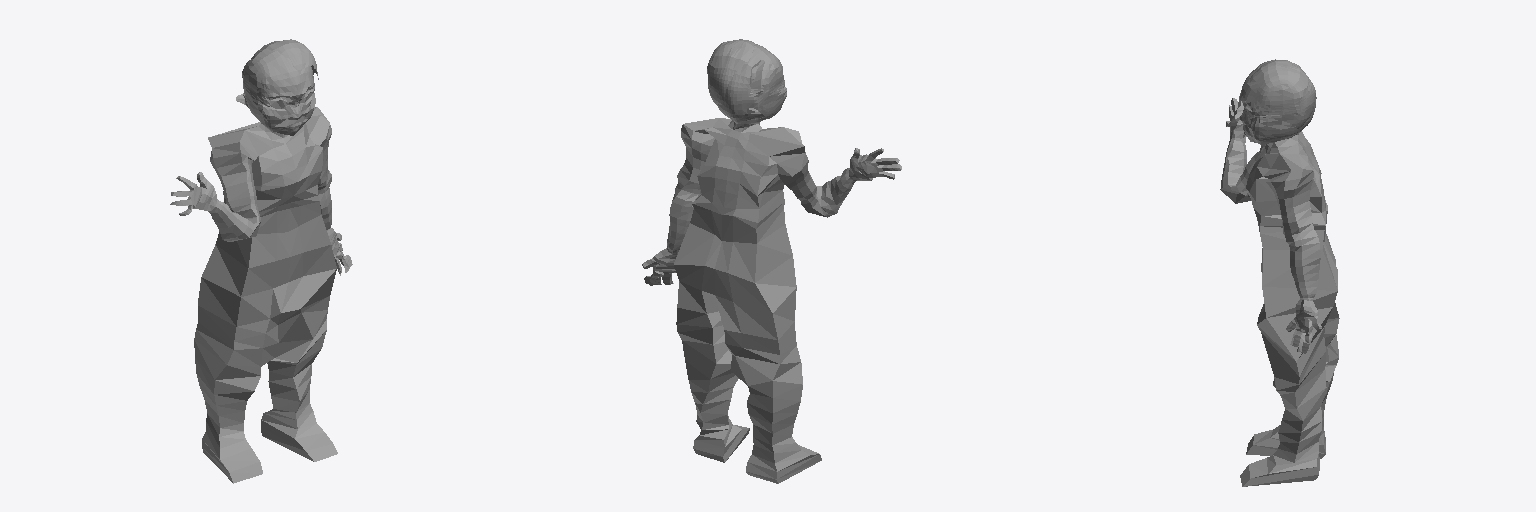
File: momfinal.obj
The picture shows the model from 3 angles: view 1: azimuth 30°, elevation 25°; view 2: azimuth 150°, elevation 25°; view 3: azimuth 270°, elevation 25°; orthographic projection.
Parts seen in each view (by area): view 1: Cube.003_Cube.002, Cube.001_Cube.000; view 2: Cube.003_Cube.002, Cube.001_Cube.000; view 3: Cube.003_Cube.002, Cube.001_Cube.000.
Part boxes in pixels (x1,y1,x2,y2): Cube.003_Cube.002: (170,49,352,483); Cube.001_Cube.000: (253,39,318,79); Cube.003_Cube.002: (642,44,901,483); Cube.001_Cube.000: (707,39,757,104); Cube.003_Cube.002: (1220,59,1339,486); Cube.001_Cube.000: (1250,60,1315,128).
Size of the model in its own units: 2.12 by 3.81 by 0.996.